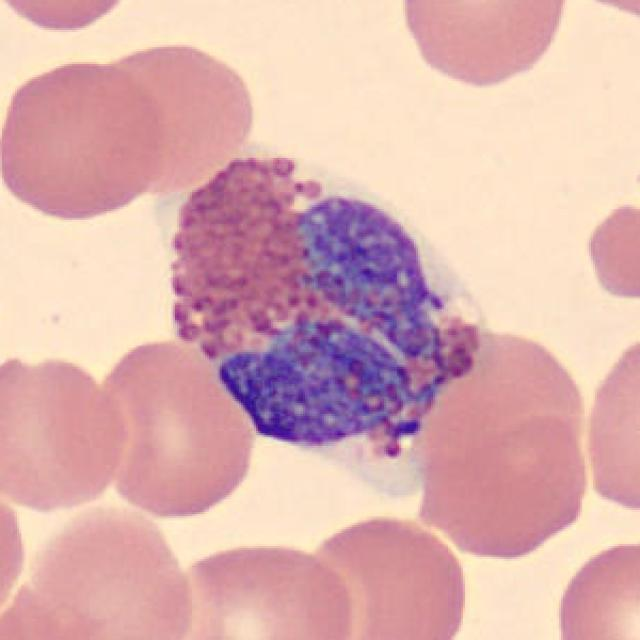WBC: (160, 145, 510, 493)
